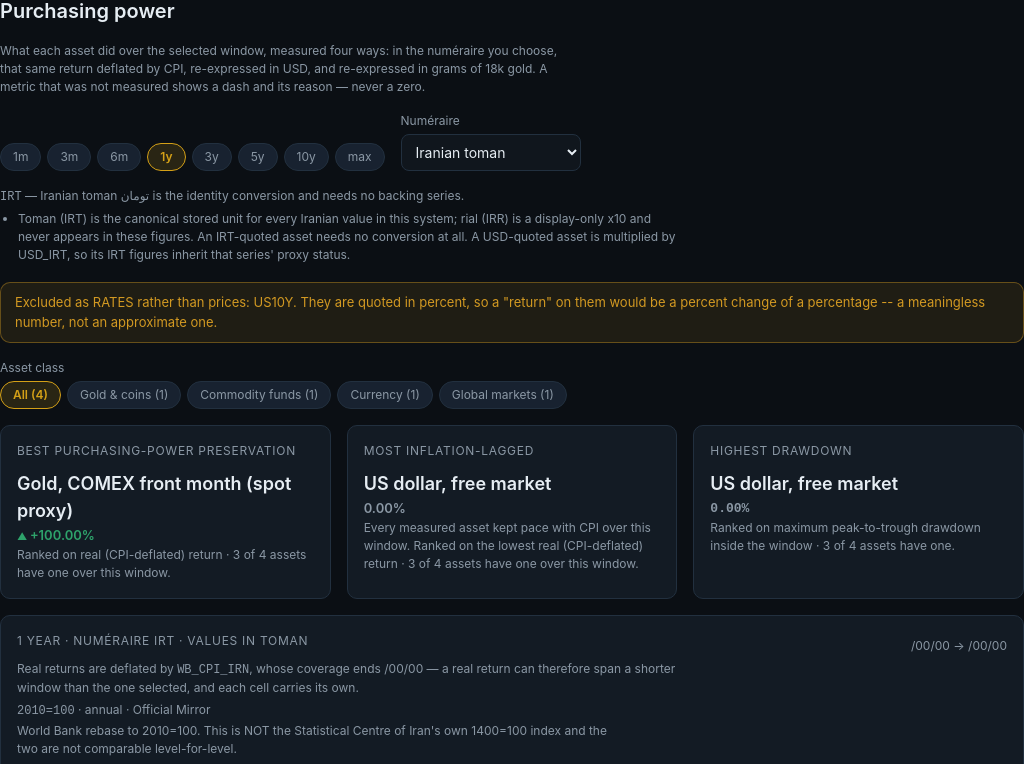
Markets — the Value column is denominated in the SELECTED numéraire › shows dollars for numéraire USD — not the instrument’s own quote currency
Select "US dollar" in the dropdown labelled "Numéraire" at (491, 152), box top-left (401, 134), bottom-right (581, 171)
(page scrolled)
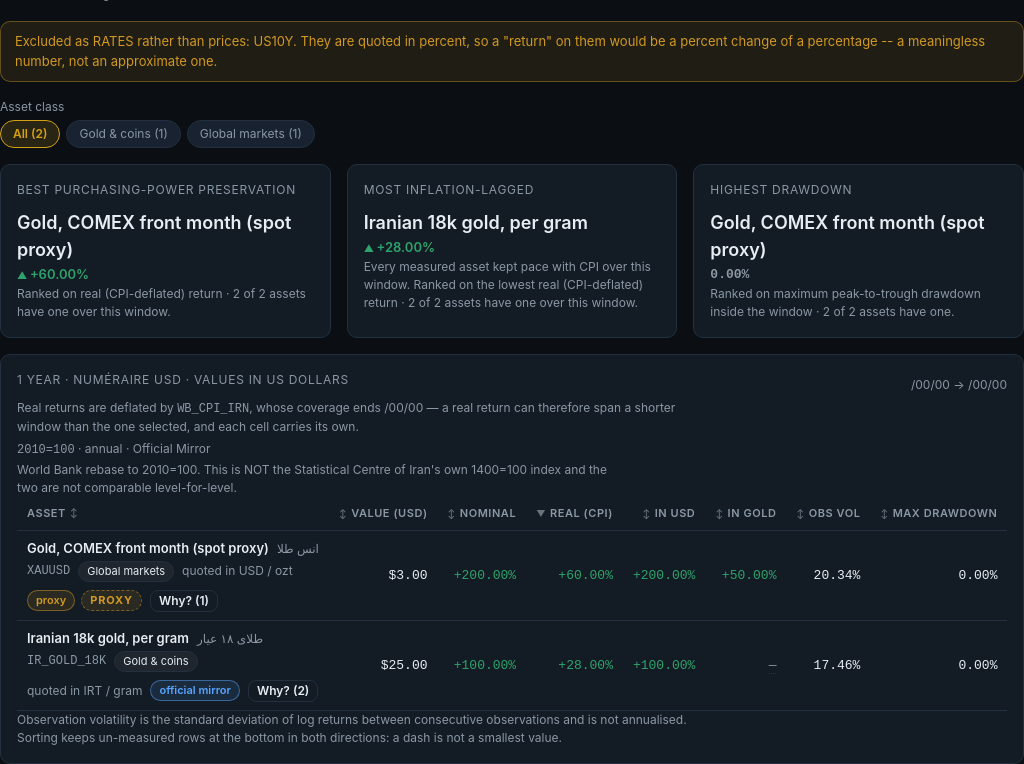
Now the cell "$25.00" is shown, box top-left (329, 620), bottom-right (438, 710)
Now the text with test id "mkt-row-IR_GOLD_18K" no longer shows "تومان"
Now the column heading "Value (USD) ↕" is shown, box top-left (329, 496), bottom-right (438, 530)
